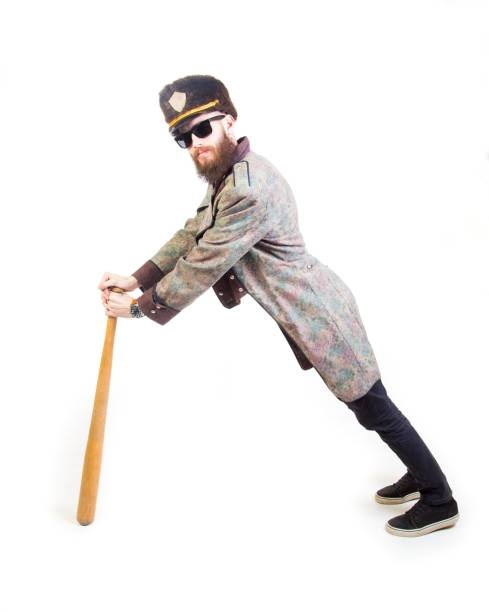bita: (71, 281, 127, 533)
